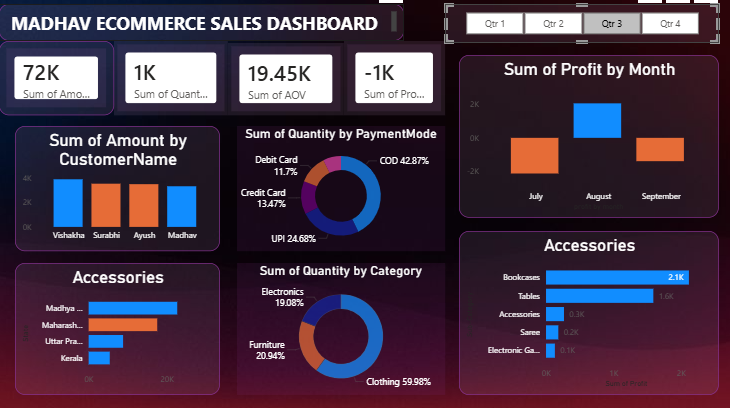

The page's visual inventory and layout, read from the dashboard file:
{"tool":"powerbi","page":{"name":"Page 1","canvas":[1280,720],"ordinal":0},"visuals":[{"type":"textbox","box":[116.5,61.2,605,55.3],"z":0},{"type":"columnChart","fields":{"Y":["Sum(Details.Profit)"],"Category":["Orders.Order Date.Variation.Date Hierarchy.Month"]},"box":[803.7,137.4,388.4,243.5],"z":1000},{"type":"barChart","fields":{"Category":["Details.Sub-Category"],"Y":["Sum(Details.Profit)"]},"box":[803.7,400.3,388.4,245],"z":2000},{"type":"donutChart","fields":{"Category":["Details.Category"],"Y":["Sum(Details.Quantity)"]},"box":[472,448.1,310.7,197.2],"z":3000},{"type":"donutChart","fields":{"Category":["Details.PaymentMode"],"Y":["Sum(Details.Quantity)"]},"box":[472,243.5,310.7,186.7],"z":4000},{"type":"cardVisual","fields":{"Data":["Sum(Details.Profit)"]},"box":[631.9,116.5,150.9,110.5],"z":5000},{"type":"cardVisual","fields":{"Data":["Sum(Details.Amount)"]},"box":[116.5,116.5,171.8,110.5],"z":6000},{"type":"cardVisual","fields":{"Data":["Sum(Details.Quantity)"]},"box":[288.3,116.5,170.3,110.5],"z":7000},{"type":"cardVisual","fields":{"Data":["Sum(Details.AOV)"]},"box":[458.6,119.5,173.3,107.6],"z":8000},{"type":"barChart","fields":{"Y":["Sum(Details.Amount)"],"Category":["Orders.State"]},"box":[140.4,448.1,306.2,197.2],"z":9000},{"type":"columnChart","fields":{"Category":["Orders.CustomerName"],"Y":["Sum(Details.Amount)"]},"box":[140.4,243.5,306.2,186.7],"z":10000},{"type":"slicer","fields":{"Values":["Orders.Order Date.Variation.Date Hierarchy.Quarter"]},"box":[782.7,61.2,409.3,58.3],"z":11000}]}

Visuals, with their boxes in screenshot pixels (x1, y1, x2, y2), scaled from the page's 1280x720 canvas onto the 730x408 screenshot:
textbox: Rect(66, 35, 411, 66)
columnChart - Sum(Details.Profit) x Orders.Order Date.Variation.Date Hierarchy.Month: Rect(458, 78, 680, 216)
barChart - Details.Sub-Category x Sum(Details.Profit): Rect(458, 227, 680, 366)
donutChart - Details.Category x Sum(Details.Quantity): Rect(269, 254, 446, 366)
donutChart - Details.PaymentMode x Sum(Details.Quantity): Rect(269, 138, 446, 244)
cardVisual - Sum(Details.Profit): Rect(360, 66, 446, 129)
cardVisual - Sum(Details.Amount): Rect(66, 66, 164, 129)
cardVisual - Sum(Details.Quantity): Rect(164, 66, 262, 129)
cardVisual - Sum(Details.AOV): Rect(262, 68, 360, 129)
barChart - Sum(Details.Amount) x Orders.State: Rect(80, 254, 255, 366)
columnChart - Orders.CustomerName x Sum(Details.Amount): Rect(80, 138, 255, 244)
slicer - Orders.Order Date.Variation.Date Hierarchy.Quarter: Rect(446, 35, 680, 68)
